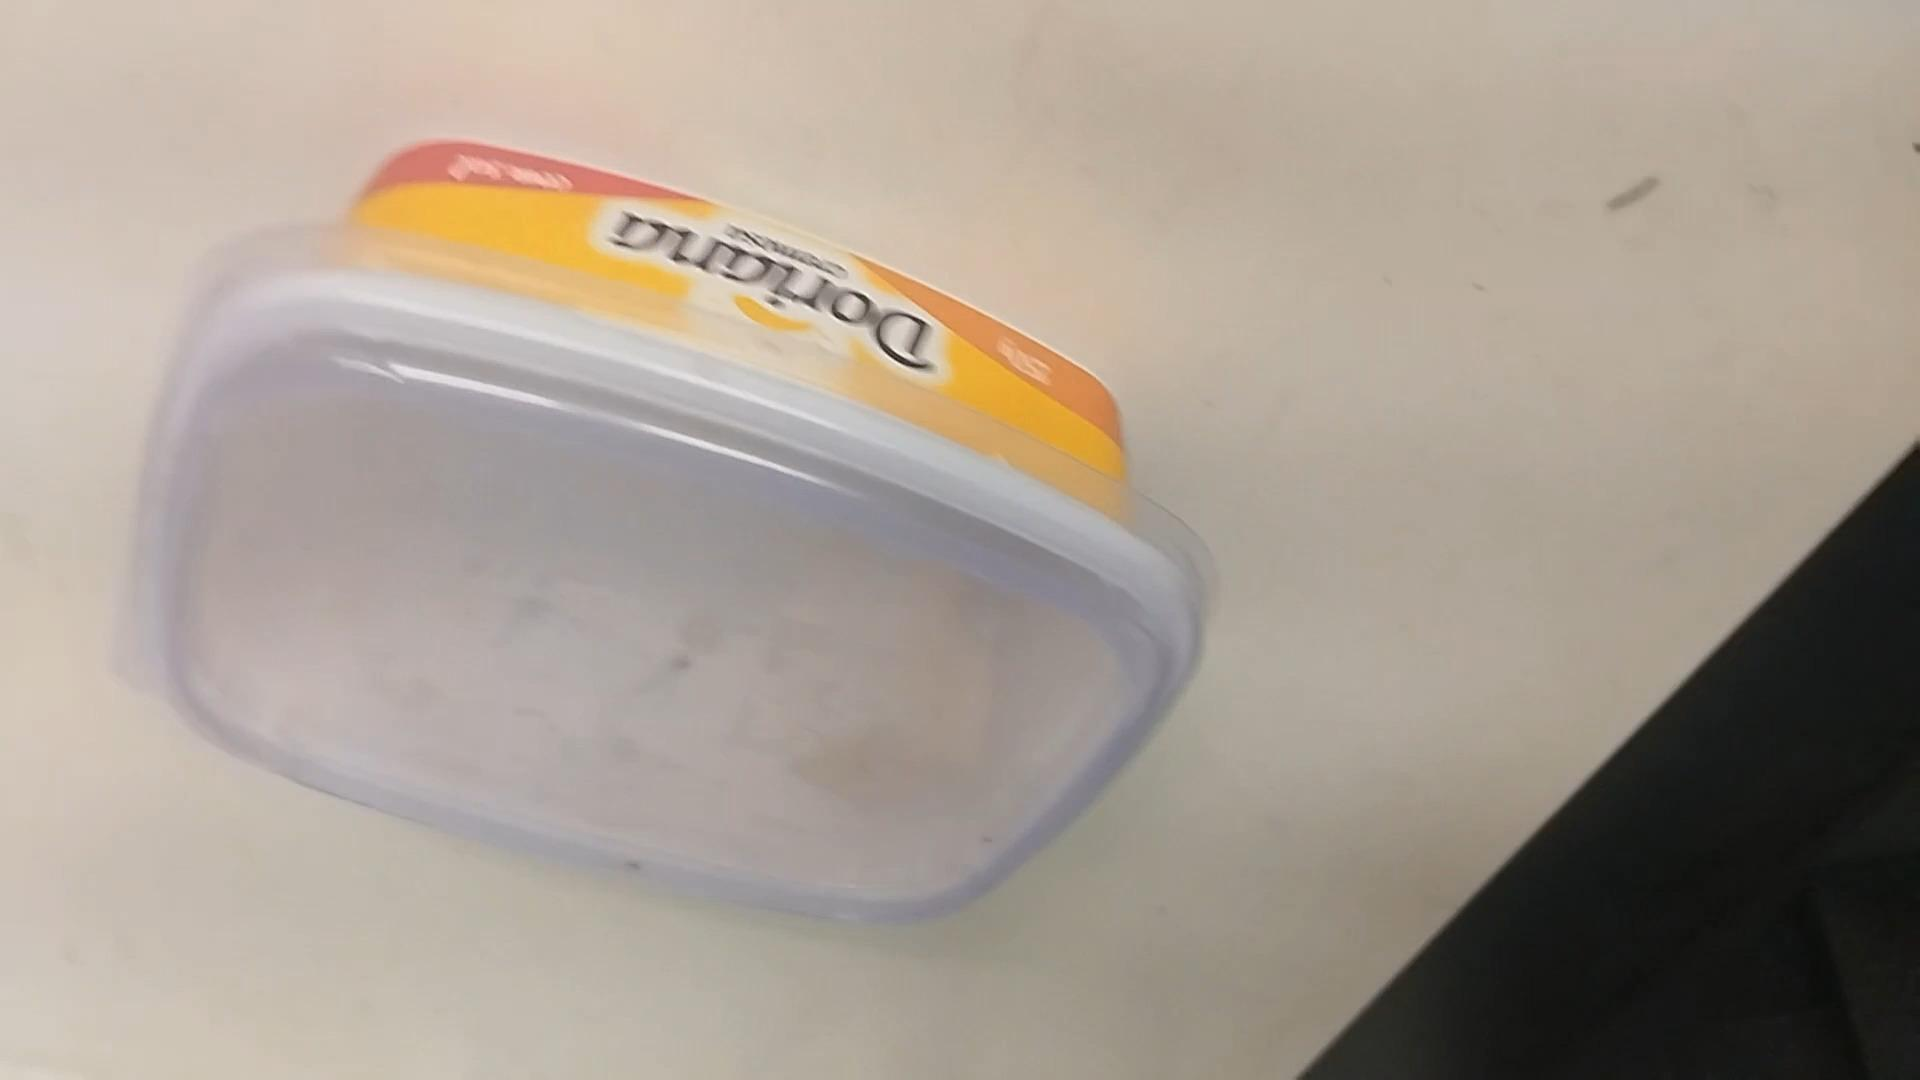butter: (115, 154, 1203, 931)
